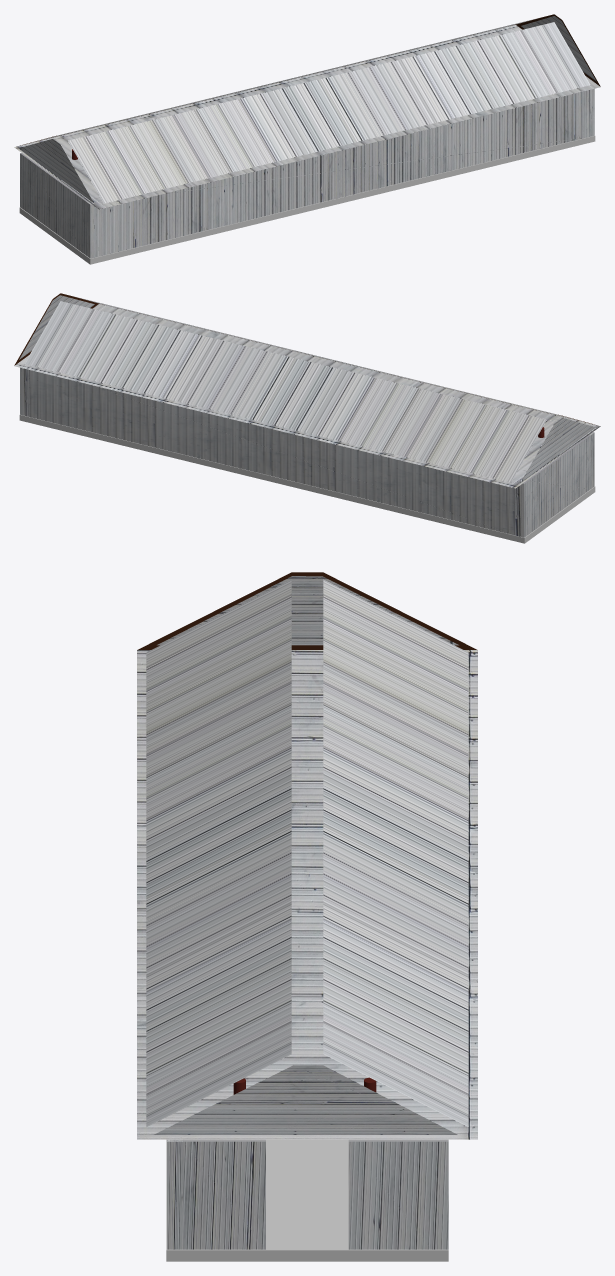
Rendered from ChickenFarm.fbx.
3 renders of one model, top to bottom at view 1: azimuth 30°, elevation 25°; view 2: azimuth 150°, elevation 25°; view 3: azimuth 270°, elevation 25°, orthographic. The views are drawn at different scales.
Parts seen in each view (by area): view 1: Plane, Cube; view 2: Plane, Cube; view 3: Plane, Cube.
Part boxes in pixels (x1,y1,x2,y2): Plane: (14,14,600,258); Cube: (19,135,595,264); Plane: (14,293,600,537); Cube: (19,414,595,543); Plane: (137,572,477,1249); Cube: (166,1139,448,1261).
Size of the model in its own units: 18728 by 3505 by 5473.
